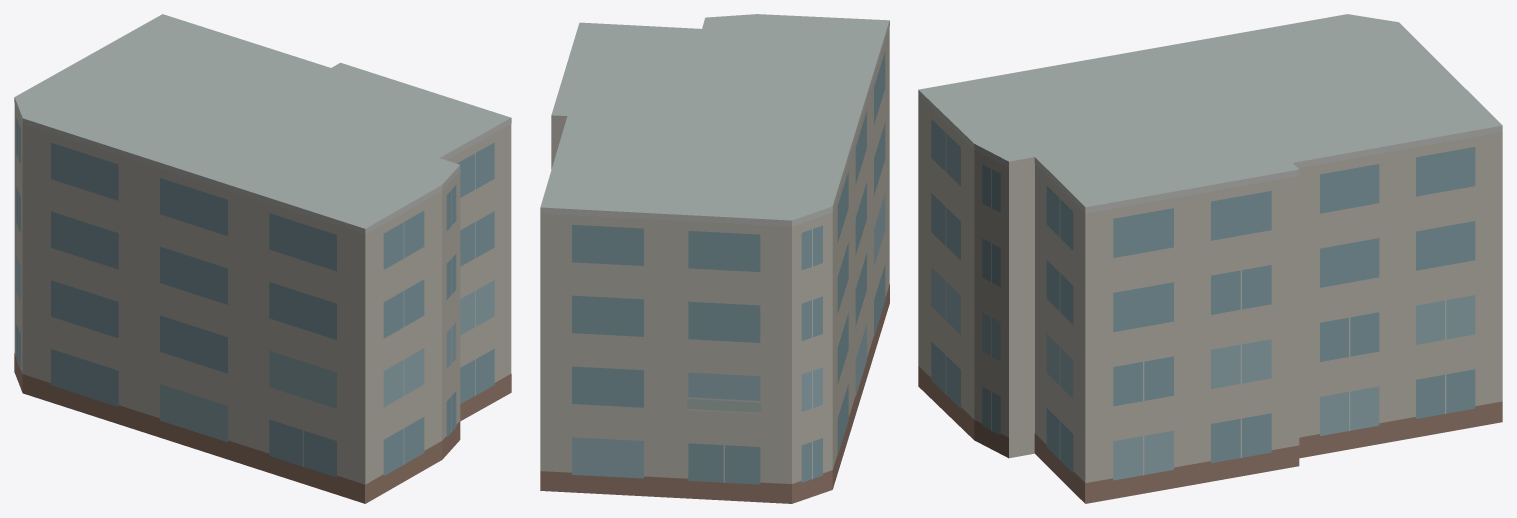
The model's file is survey-upis-32750227.glb.
3 views of the same model, side by side, from view 1: azimuth 30°, elevation 25°; view 2: azimuth 150°, elevation 25°; view 3: azimuth 270°, elevation 25° (orthographic). The views are drawn at different scales.
Parts seen in each view (by area): view 1: survey-upis-32750227.tmp; view 2: survey-upis-32750227.tmp; view 3: survey-upis-32750227.tmp.
Part boxes in pixels (left/top/right/bottom): survey-upis-32750227.tmp: left=14, top=14, right=511, bottom=503; survey-upis-32750227.tmp: left=540, top=14, right=889, bottom=503; survey-upis-32750227.tmp: left=918, top=14, right=1502, bottom=503.
Bounding box in the file's own units: 15.94 × 11.4 × 20.37.
